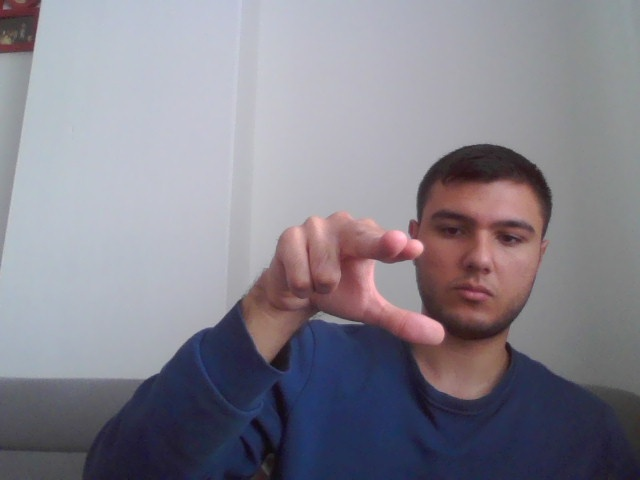no: (263, 210, 444, 347)
